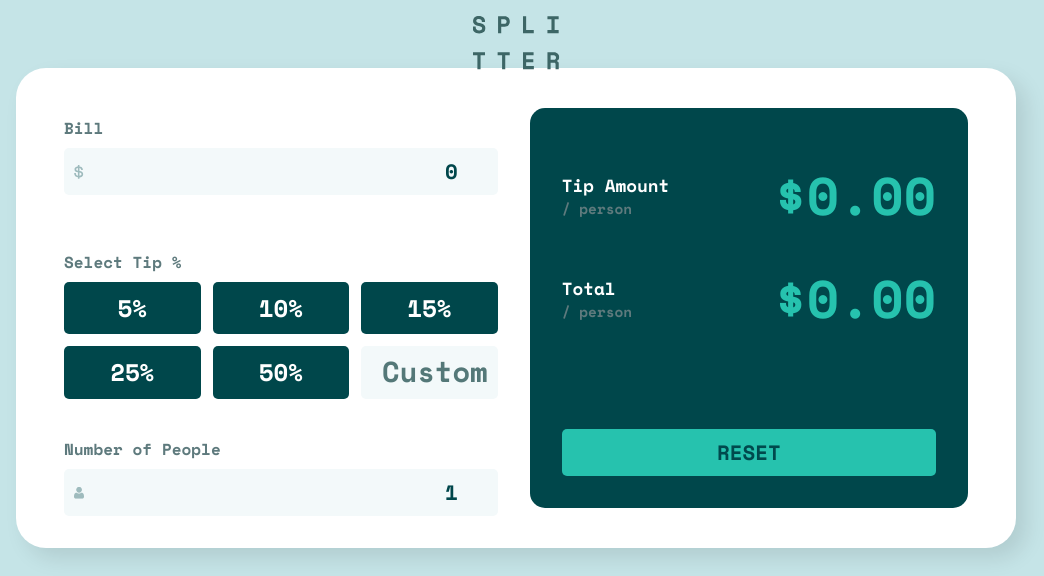
Test: Tip Calculator › Number of People Input › shows error when number of people is zero
Type "0" into the field labelled "Number of People" at (281, 492), box [64,469,498,516]
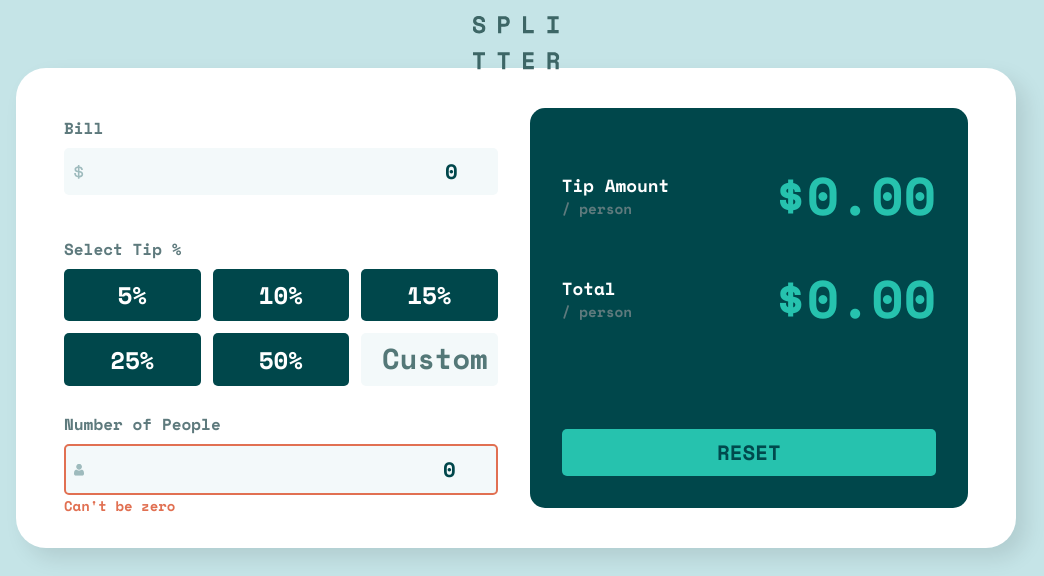
Check: the text "Can't be zero" is shown, box [64,495,175,516]
